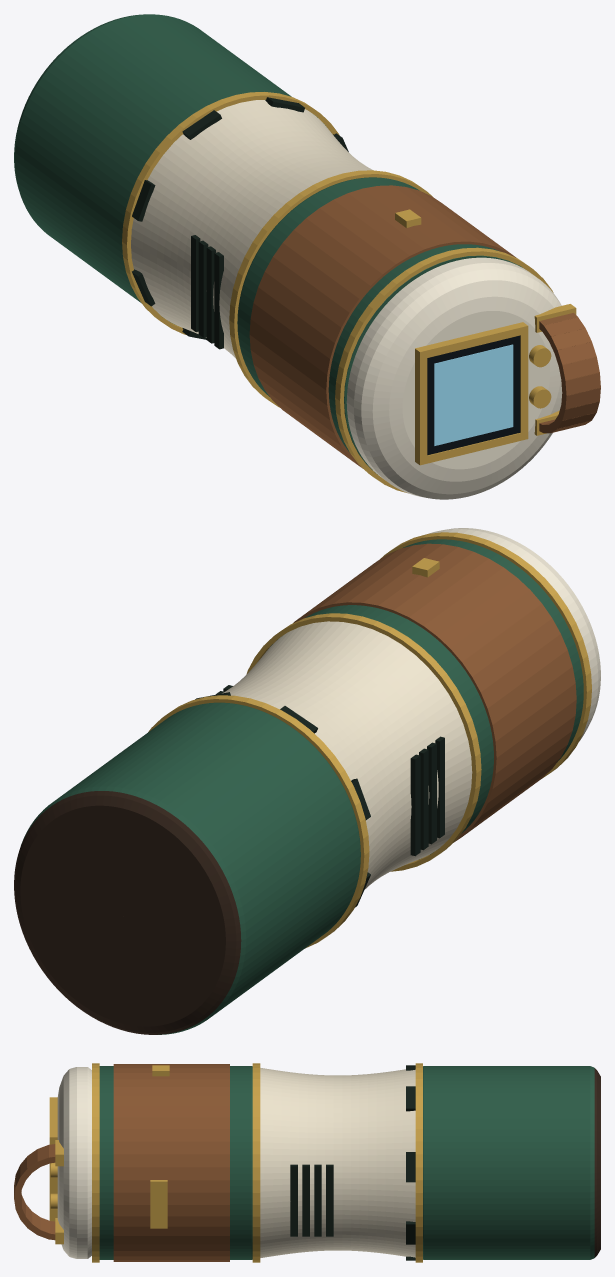
Rendered from thermox_bottle_classic.obj.
3 renders of one model, top to bottom at view 1: azimuth 30°, elevation 25°; view 2: azimuth 150°, elevation 25°; view 3: azimuth 270°, elevation 25°, orthographic. The views are drawn at different scales.
Visible parts, largest first — view 1: body_lower, lid_dome, body_waist, grip_wrap, body_upper, oled_screen, trim_band_3, trim_band_1, trim_band_2, oled_1_5in, oled_bezel_b, oled_bezel_c (+9 smaller); view 2: base_pad, body_lower, body_waist, grip_wrap, body_upper, trim_band_2, trim_band_1, trim_band_3, lid_dome, exhaust_slot_rear_1, exhaust_slot_rear_2, exhaust_slot_rear_3 (+1 smaller); view 3: body_lower, body_waist, grip_wrap, body_upper, lid_dome, trim_band_2, trim_band_1, trim_band_3, base_pad, nameplate, exhaust_slot_front_1, exhaust_slot_front_2 (+5 smaller).
Boxes of the visible parts, bbox=[...] form: body_lower: bbox=[14, 14, 325, 324]; lid_dome: bbox=[346, 257, 562, 499]; body_waist: bbox=[131, 100, 372, 358]; grip_wrap: bbox=[249, 185, 516, 468]; body_upper: bbox=[237, 177, 522, 474]; oled_screen: bbox=[434, 344, 513, 445]; trim_band_3: bbox=[335, 247, 553, 492]; trim_band_1: bbox=[122, 92, 339, 334]; trim_band_2: bbox=[229, 170, 432, 407]; oled_1_5in: bbox=[427, 335, 520, 455]; oled_bezel_b: bbox=[415, 322, 528, 359]; oled_bezel_c: bbox=[415, 356, 427, 457]; base_pad: bbox=[14, 791, 241, 1034]; body_lower: bbox=[21, 702, 360, 1034]; body_waist: bbox=[222, 621, 472, 889]; grip_wrap: bbox=[293, 543, 576, 842]; body_upper: bbox=[270, 539, 583, 859]; trim_band_2: bbox=[246, 613, 481, 871]; trim_band_1: bbox=[148, 695, 369, 948]; trim_band_3: bbox=[380, 532, 591, 777]; lid_dome: bbox=[428, 528, 600, 741]; exhaust_slot_rear_1: bbox=[410, 754, 420, 856]; exhaust_slot_rear_2: bbox=[419, 748, 428, 850]; exhaust_slot_rear_3: bbox=[427, 742, 436, 844]; body_lower: bbox=[423, 1066, 594, 1259]; body_waist: bbox=[260, 1068, 415, 1257]; grip_wrap: bbox=[113, 1064, 229, 1261]; body_upper: bbox=[99, 1066, 252, 1259]; lid_dome: bbox=[57, 1067, 91, 1258]; trim_band_2: bbox=[252, 1063, 260, 1262]; trim_band_1: bbox=[415, 1063, 422, 1262]; trim_band_3: bbox=[92, 1063, 99, 1262]; base_pad: bbox=[594, 1068, 600, 1257]; nameplate: bbox=[150, 1180, 167, 1228]; exhaust_slot_front_1: bbox=[326, 1164, 333, 1236]; exhaust_slot_front_2: bbox=[314, 1164, 321, 1236].
Bounding box in the file's own units: 92.5 × 97 × 272.
